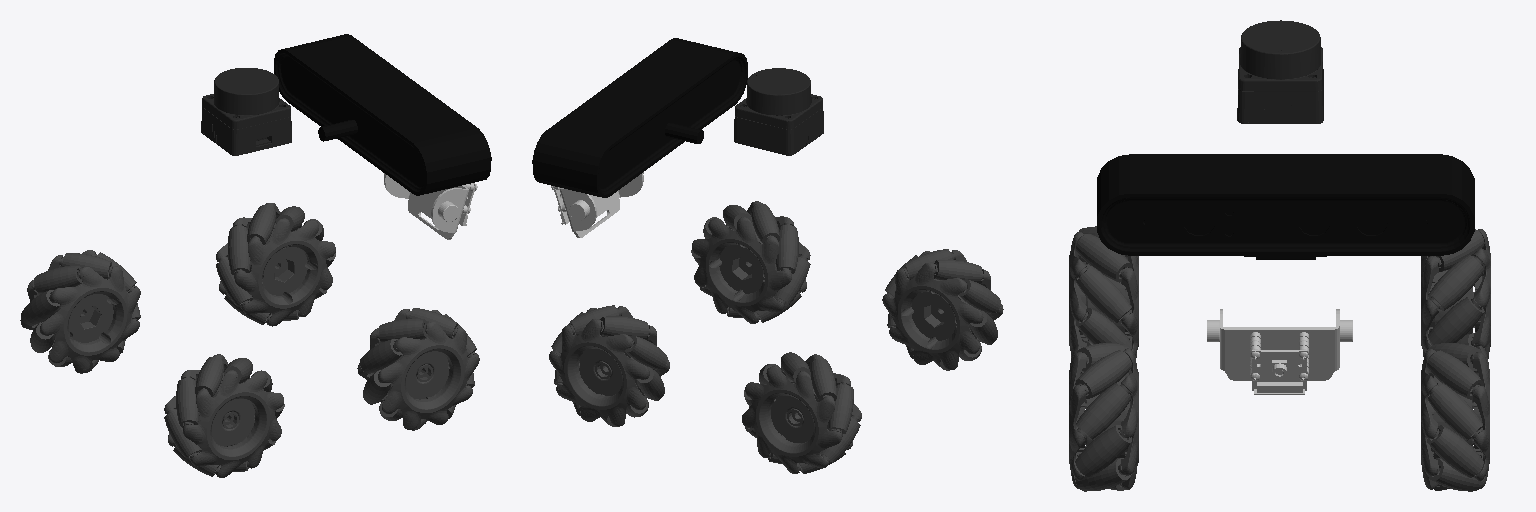
robot.urdf — yahboomcar:
<?xml version="1.0" encoding="utf-8"?>
<!-- This URDF was automatically created by SolidWorks to URDF Exporter! Originally created by [author] ([email redacted]) 
     Commit Version: 1.6.0-1-g15f4949  Build Version: 1.6.7594.29634
     For more information, please see http://wiki.ros.org/sw_urdf_exporter -->
<robot
  name="yahboomcar">
  <link
    name="base_footprint" />
  <link
    name="base_link">
    <inertial>
      <origin
        xyz="0.00747327885898614 -0.000703137401396085 0.00844632750789007"
        rpy="0 0 0" />
      <mass
        value="0.472828691870721" />
      <inertia
        ixx="0.00023735992797554"
        ixy="1.96687462104139E-07"
        ixz="4.09403791310172E-05"
        iyy="0.000480258948998206"
        iyz="2.77544074265144E-07"
        izz="0.000585619745886075" />
    </inertial>
    <visual>
      <origin
        xyz="0 0 0"
        rpy="0 0 0" />
      <geometry>
        <mesh
          filename="package://yahboomcar_description/meshes/base_link.STL" />
      </geometry>
      <material
        name="">
        <color
          rgba="1 1 1 1" />
      </material>
    </visual>
    <collision>
      <origin
        xyz="0 0 0"
        rpy="0 0 0" />
      <geometry>
        <mesh
          filename="package://yahboomcar_description/meshes/base_link.STL" />
      </geometry>
    </collision>
  </link>
  <joint name="base_joint" type="fixed">
        <parent link="base_footprint"/>
        <child link="base_link"/>
        <origin xyz="0.0 0.0 0.0815" rpy="0 0 0"/>
  </joint>
  <link
    name="left_front_wheel">
    <inertial>
      <origin
        xyz="9.51309601676664E-07 -0.00750819025110039 2.18379392255552E-06"
        rpy="0 0 0" />
      <mass
        value="0.0500162120573925" />
      <inertia
        ixx="1.40864768085935E-05"
        ixy="1.26664379700422E-09"
        ixz="7.32505207064377E-11"
        iyy="2.37248611853105E-05"
        iyz="-8.29718123821318E-10"
        izz="1.40860255663684E-05" />
    </inertial>
    <visual>
      <origin
        xyz="0 0 0"
        rpy="0 0 0" />
      <geometry>
        <mesh
          filename="package://yahboomcar_description/meshes/left_front_wheel.STL" />
      </geometry>
      <material
        name="">
        <color
          rgba="0.309803921568627 0.309803921568627 0.309803921568627 1" />
      </material>
    </visual>
    <collision>
      <origin
        xyz="0 0 0"
        rpy="0 0 0" />
      <geometry>
        <mesh
          filename="package://yahboomcar_description/meshes/left_front_wheel.STL" />
      </geometry>
    </collision>
  </link>
  <joint
    name="left_front_joint"
    type="continuous">
    <origin
      xyz="0.06 0.08361 -0.03295"
      rpy="0 0 0" />
    <parent
      link="base_link" />
    <child
      link="left_front_wheel" />
    <axis
      xyz="0 1 0" />
    <limit
      lower="0"
      upper="0"
      effort="0"
      velocity="0" />
  </joint>
  <link
    name="left_back_wheel">
    <inertial>
      <origin
        xyz="2.16943072321729E-06 -0.00750818642922751 -7.84233932168976E-07"
        rpy="0 0 0" />
      <mass
        value="0.0500046612532973" />
      <inertia
        ixx="1.40831669483232E-05"
        ixy="1.39729199262047E-09"
        ixz="1.64939876121511E-10"
        iyy="2.37212144800203E-05"
        iyz="1.20398545590494E-09"
        izz="1.40831639757783E-05" />
    </inertial>
    <visual>
      <origin
        xyz="0 0 0"
        rpy="0 0 0" />
      <geometry>
        <mesh
          filename="package://yahboomcar_description/meshes/left_back_wheel.STL" />
      </geometry>
      <material
        name="">
        <color
          rgba="0.309803921568627 0.309803921568627 0.309803921568627 1" />
      </material>
    </visual>
    <collision>
      <origin
        xyz="0 0 0"
        rpy="0 0 0" />
      <geometry>
        <mesh
          filename="package://yahboomcar_description/meshes/left_back_wheel.STL" />
      </geometry>
    </collision>
  </link>
  <joint
    name="left_back_joint"
    type="continuous">
    <origin
      xyz="-0.06 0.083967 -0.03295"
      rpy="0 0 0" />
    <parent
      link="base_link" />
    <child
      link="left_back_wheel" />
    <axis
      xyz="0 1 0" />
    <limit
      lower="0"
      upper="0"
      effort="0"
      velocity="0" />
  </joint>
  <link
    name="right_front_wheel">
    <inertial>
      <origin
        xyz="1.39763584144914E-06 0.00750819651285384 1.80940603984603E-06"
        rpy="0 0 0" />
      <mass
        value="0.0500047416034941" />
      <inertia
        ixx="1.40833480740863E-05"
        ixy="-1.76138672813374E-09"
        ixz="-3.22549915470603E-11"
        iyy="2.37212903005222E-05"
        iyz="3.14012077850559E-10"
        izz="1.40830865017032E-05" />
    </inertial>
    <visual>
      <origin
        xyz="0 0 0"
        rpy="0 0 0" />
      <geometry>
        <mesh
          filename="package://yahboomcar_description/meshes/right_front_wheel.STL" />
      </geometry>
      <material
        name="">
        <color
          rgba="0.309803921568627 0.309803921568627 0.309803921568627 1" />
      </material>
    </visual>
    <collision>
      <origin
        xyz="0 0 0"
        rpy="0 0 0" />
      <geometry>
        <mesh
          filename="package://yahboomcar_description/meshes/right_front_wheel.STL" />
      </geometry>
    </collision>
  </link>
  <joint
    name="right_front_joint"
    type="continuous">
    <origin
      xyz="0.06 -0.083747 -0.03295"
      rpy="0 0 0" />
    <parent
      link="base_link" />
    <child
      link="right_front_wheel" />
    <axis
      xyz="0 -1 0" />
    <limit
      lower="0"
      upper="0"
      effort="0"
      velocity="0" />
  </joint>
  <link
    name="right_back_wheel">
    <inertial>
      <origin
        xyz="-9.55851960818266E-07 0.00750819824863867 2.17080393899449E-06"
        rpy="0 0 0" />
      <mass
        value="0.0500150312671666" />
      <inertia
        ixx="1.40860871898844E-05"
        ixy="1.15449149953798E-09"
        ixz="6.61374857841594E-11"
        iyy="2.37245707946249E-05"
        iyz="6.4920640199731E-10"
        izz="1.40857967352272E-05" />
    </inertial>
    <visual>
      <origin
        xyz="0 0 0"
        rpy="0 0 0" />
      <geometry>
        <mesh
          filename="package://yahboomcar_description/meshes/right_back_wheel.STL" />
      </geometry>
      <material
        name="">
        <color
          rgba="0.309803921568627 0.309803921568627 0.309803921568627 1" />
      </material>
    </visual>
    <collision>
      <origin
        xyz="0 0 0"
        rpy="0 0 0" />
      <geometry>
        <mesh
          filename="package://yahboomcar_description/meshes/right_back_wheel.STL" />
      </geometry>
    </collision>
  </link>
  <joint
    name="right_back_joint"
    type="continuous">
    <origin
      xyz="-0.06 -0.08358 -0.03295"
      rpy="0 0 0" />
    <parent
      link="base_link" />
    <child
      link="right_back_wheel" />
    <axis
      xyz="0 -1 0" />
    <limit
      lower="0"
      upper="0"
      effort="0"
      velocity="0" />
  </joint>
  <link
    name="camera_link">
    <inertial>
      <origin
        xyz="0.0120062883869545 1.41307787423189E-12 -0.0042347859353245"
        rpy="0 0 0" />
      <mass
        value="0.00750684648912333" />
      <inertia
        ixx="1.51127145045957E-06"
        ixy="-2.71539569708406E-14"
        ixz="-2.95702098156892E-08"
        iyy="3.81441254432382E-07"
        iyz="-1.22107655491651E-13"
        izz="1.3927359120295E-06" />
    </inertial>
    <visual>
      <origin
        xyz="0 0 0"
        rpy="0 0 0" />
      <geometry>
        <mesh
          filename="package://yahboomcar_description/meshes/camera_link.STL" />
      </geometry>
      <material
        name="">
        <color
          rgba="0.752941176470588 0.752941176470588 0.752941176470588 1" />
      </material>
    </visual>
    <collision>
      <origin
        xyz="0 0 0"
        rpy="0 0 0" />
      <geometry>
        <mesh
          filename="package://yahboomcar_description/meshes/camera_link.STL" />
      </geometry>
    </collision>
  </link>
  <joint
    name="camera_joint"
    type="revolute">
    <origin
      xyz="0.10597 0 0.029874"
      rpy="0 0 0" />
    <parent
      link="base_link" />
    <child
      link="camera_link" />
    <axis
      xyz="0 1 0" />
    <limit
      lower="-1.4"
      upper="1"
      effort="0"
      velocity="0" />
  </joint>
  <link
    name="camera2_link">
    <inertial>
      <origin
        xyz="-0.00890326257047377 -0.0181075454483547 0.0183349632472757"
        rpy="0 0 0" />
      <mass
        value="0.173412271704595" />
      <inertia
        ixx="0.000376500545687347"
        ixy="2.2465054742241E-08"
        ixz="7.46582088614442E-08"
        iyy="3.27628693541372E-05"
        iyz="-5.06722292463496E-12"
        izz="0.000382974148366682" />
    </inertial>
    <visual>
      <origin
        xyz="0 0 0"
        rpy="0 0 0" />
      <geometry>
        <mesh
          filename="package://yahboomcar_description/meshes/camera2_link.STL" />
      </geometry>
      <material
        name="">
        <color
          rgba="0.0823529411764706 0.0823529411764706 0.0823529411764706 1" />
      </material>
    </visual>
    <collision>
      <origin
        xyz="0 0 0"
        rpy="0 0 0" />
      <geometry>
        <mesh
          filename="package://yahboomcar_description/meshes/camera2_link.STL" />
      </geometry>
    </collision>
  </link>
  <joint
    name="camera2_link"
    type="revolute">
    <origin
      xyz="0.092092 0.020691 0.061267"
      rpy="0 0 0" />
    <parent
      link="base_link" />
    <child
      link="camera2_link" />
    <axis
      xyz="0 -1 0" />
    <limit
      lower="-1"
      upper="1"
      effort="0"
      velocity="0" />
  </joint>
  <link
    name="laser">
    <inertial>
      <origin
        xyz="2.58655077059347E-05 9.87213808632172E-05 -0.0175251741349158"
        rpy="0 0 0" />
      <mass
        value="0.0384696767042416" />
      <inertia
        ixx="7.04823646497064E-06"
        ixy="-1.60337109920922E-07"
        ixz="9.84412023285342E-09"
        iyy="7.10632359919618E-06"
        iyz="3.98837665675289E-08"
        izz="7.61196038394082E-06" />
    </inertial>
    <visual>
      <origin
        xyz="0 0 0"
        rpy="0 0 0" />
      <geometry>
        <mesh
          filename="package://yahboomcar_description/meshes/lidar_link.STL" />
      </geometry>
      <material
        name="">
        <color
          rgba="0.196078431372549 0.196078431372549 0.196078431372549 1" />
      </material>
    </visual>
    <collision>
      <origin
        xyz="0 0 0"
        rpy="0 0 0" />
      <geometry>
        <mesh
          filename="package://yahboomcar_description/meshes/lidar_link.STL" />
      </geometry>
    </collision>
  </link>
  <joint
    name="lidar_joint"
    type="fixed">
    <origin
      xyz="-0.0019517 0.00040736 0.12059"
      rpy="0 0 0" />
    <parent
      link="base_link" />
    <child
      link="laser" />
    <axis
      xyz="0 0 0" />
  </joint>
  <link
    name="imu_link">
    <inertial>
      <origin
        xyz="-0.022012348814566 -0.014787288572475 0.00189847204885884"
        rpy="0 0 0" />
      <mass
        value="0.0359997241016587" />
      <inertia
        ixx="5.07306168807687E-06"
        ixy="-1.17177214930425E-07"
        ixz="-1.17901089615287E-07"
        iyy="1.27151707942821E-05"
        iyz="3.16261224112506E-07"
        izz="8.57151361697302E-06" />
    </inertial>
    <visual>
      <origin
        xyz="0 0 0"
        rpy="0 0 0" />
      <geometry>
        <mesh
          filename="package://yahboomcar_description/meshes/imu_link.STL" />
      </geometry>
      <material
        name="">
        <color
          rgba="1 1 1 1" />
      </material>
    </visual>
    <collision>
      <origin
        xyz="0 0 0"
        rpy="0 0 0" />
      <geometry>
        <mesh
          filename="package://yahboomcar_description/meshes/imu_link.STL" />
      </geometry>
    </collision>
  </link>
  <joint
    name="imu_joint"
    type="fixed">
    <origin
      xyz="-0.00080703 0.0418 0.040805"
      rpy="0 0 0" />
    <parent
      link="base_link" />
    <child
      link="imu_link" />
    <axis
      xyz="0 0 0" />
  </joint>
</robot>

--- What the picture shows (computed from the rendered views, not written in the file) ---
3 views of the same robot in one strip: view 1: azimuth 30°, elevation 25°; view 2: azimuth 150°, elevation 25°; view 3: azimuth 270°, elevation 25° (orthographic).
Model yahboomcar with 10 links and 9 joints (2 revolute, 4 continuous, 3 fixed), rooted at base_footprint, posed every joint at zero.
Links seen in each view (by area): view 1: camera2_link, left_back_wheel, left_front_wheel, right_back_wheel, right_front_wheel, laser, camera_link; view 2: camera2_link, right_front_wheel, left_back_wheel, left_front_wheel, right_back_wheel, laser, camera_link; view 3: camera2_link, right_front_wheel, left_front_wheel, laser, camera_link, right_back_wheel, left_back_wheel.
Boxes of the visible links, x1,y1,x2,y2 form: camera2_link: [274, 34, 491, 195]; left_back_wheel: [20, 250, 140, 373]; left_front_wheel: [216, 203, 335, 326]; right_back_wheel: [164, 354, 284, 477]; right_front_wheel: [357, 308, 479, 430]; laser: [201, 68, 291, 155]; camera_link: [384, 173, 477, 239]; camera2_link: [532, 38, 747, 197]; right_front_wheel: [691, 201, 810, 323]; left_back_wheel: [742, 352, 861, 473]; left_front_wheel: [549, 305, 669, 426]; right_back_wheel: [882, 249, 1003, 370]; laser: [734, 68, 823, 155]; camera_link: [551, 172, 643, 237]; camera2_link: [1097, 154, 1474, 259]; right_front_wheel: [1069, 343, 1138, 491]; left_front_wheel: [1421, 343, 1489, 491]; laser: [1237, 20, 1323, 123]; camera_link: [1207, 309, 1352, 394]; right_back_wheel: [1069, 226, 1138, 358]; left_back_wheel: [1421, 229, 1490, 358].
Bounding box of the posed robot: 0.2282 × 0.1837 × 0.1859 m (x, y, z).
Meshes: 9 distinct files referenced, 7 mesh visuals loaded (7 binary STL); not drawn: 2 (reference not matched to a file when rendering).